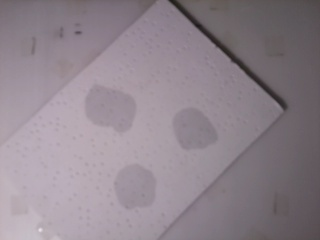Water_detected: (97, 100, 135, 133), (182, 119, 218, 144), (124, 175, 145, 198)
